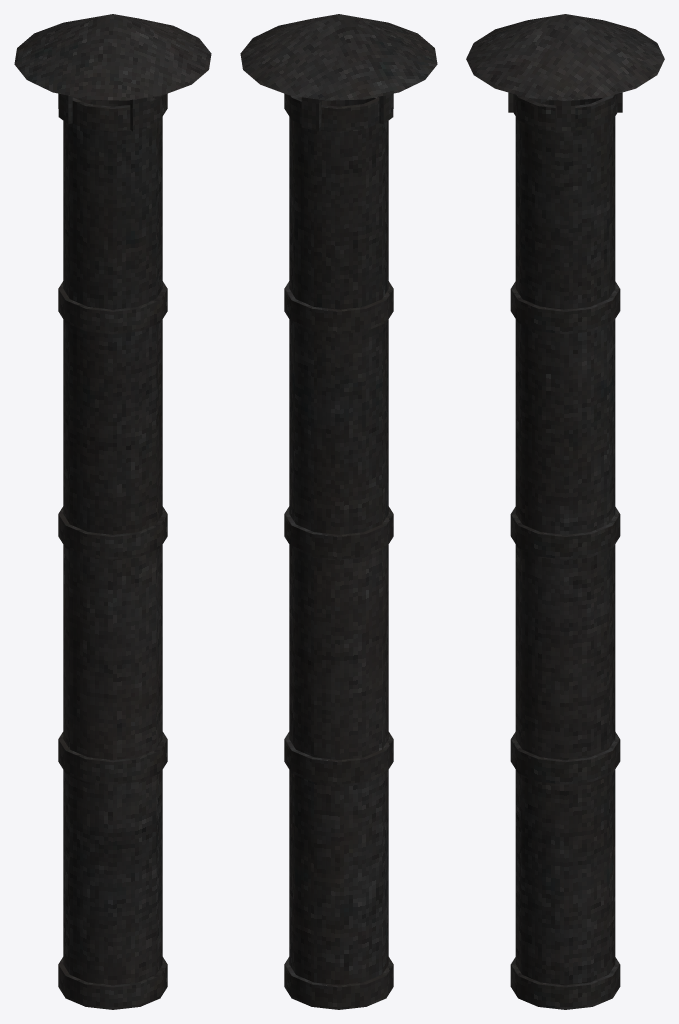
The model's file is chimney_a_4.glb.
3 views of the same model, side by side, from view 1: azimuth 30°, elevation 25°; view 2: azimuth 150°, elevation 25°; view 3: azimuth 270°, elevation 25° (orthographic).
Parts seen in each view (by area): view 1: chimney_a_4; view 2: chimney_a_4; view 3: chimney_a_4.
Boxes of the visible parts, bbox=[...] form: chimney_a_4: bbox=[14, 14, 211, 1009]; chimney_a_4: bbox=[240, 14, 437, 1009]; chimney_a_4: bbox=[466, 14, 664, 1009].
Size of the model in its own units: 0.4 by 2.16 by 0.4.
Materials: 1 (1 with a texture image).
